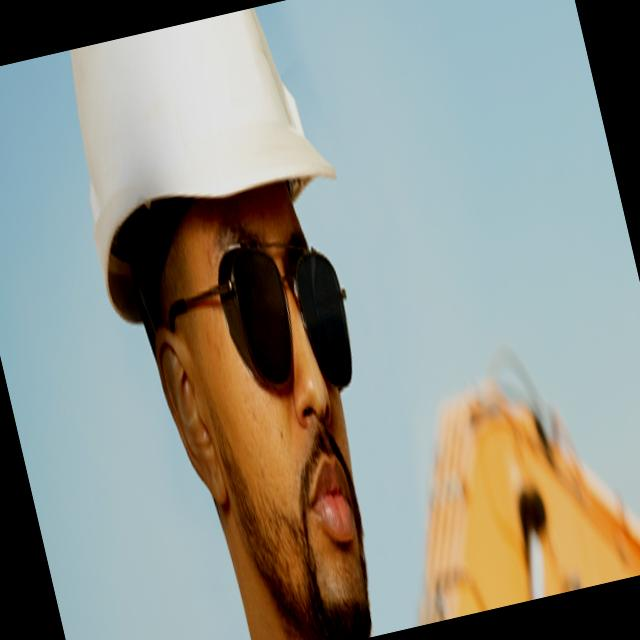goggles: (144, 180, 378, 436)
helmet: (17, 0, 349, 277)
